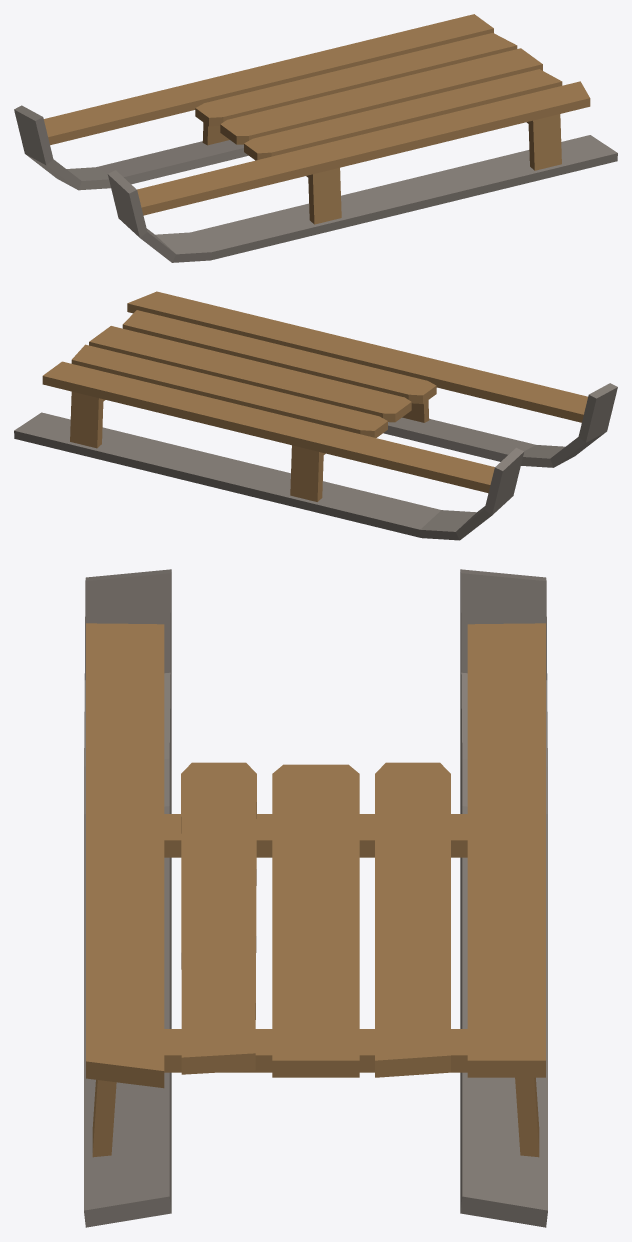
Rendered from sledge_01.fbx.
The picture shows the model from 3 angles, top to bottom: view 1: azimuth 30°, elevation 25°; view 2: azimuth 150°, elevation 25°; view 3: azimuth 270°, elevation 25°; orthographic projection. The views are drawn at different scales.
Parts seen in each view (by area): view 1: sledge_01; view 2: sledge_01; view 3: sledge_01.
Boxes of the visible parts, box(x1,y1,x2,y2) form: sledge_01: box(14, 14, 617, 262); sledge_01: box(14, 291, 617, 540); sledge_01: box(84, 569, 547, 1227).
Size of the model in its own units: 245 by 44.5 by 101.
